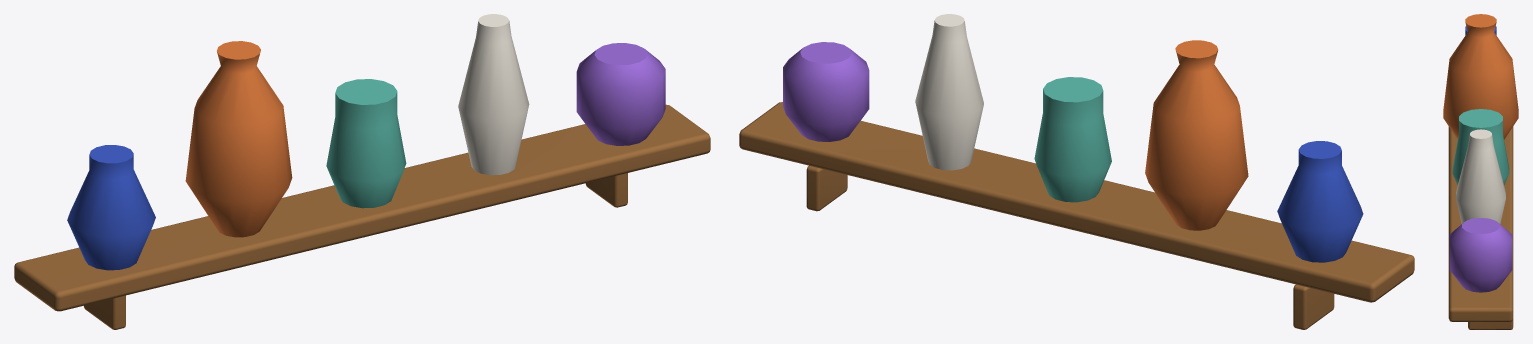
Rendered from furn_pottery_shelf.glb.
3 renders of one model, left to right at view 1: azimuth 30°, elevation 25°; view 2: azimuth 150°, elevation 25°; view 3: azimuth 270°, elevation 25°, orthographic. The views are drawn at different scales.
Visible parts, largest first — view 1: furn_pottery_shelf_gloss, furn_pottery_shelf_main; view 2: furn_pottery_shelf_gloss, furn_pottery_shelf_main; view 3: furn_pottery_shelf_gloss, furn_pottery_shelf_main.
Boxes of the visible parts, bbox=[...] form: furn_pottery_shelf_gloss: bbox=[67, 14, 665, 270]; furn_pottery_shelf_main: bbox=[14, 104, 710, 329]; furn_pottery_shelf_gloss: bbox=[783, 14, 1363, 262]; furn_pottery_shelf_main: bbox=[739, 102, 1414, 329]; furn_pottery_shelf_gloss: bbox=[1443, 14, 1518, 292]; furn_pottery_shelf_main: bbox=[1448, 126, 1513, 329].
Bounding box in the file's own units: 1.7 × 0.6 × 0.234.
